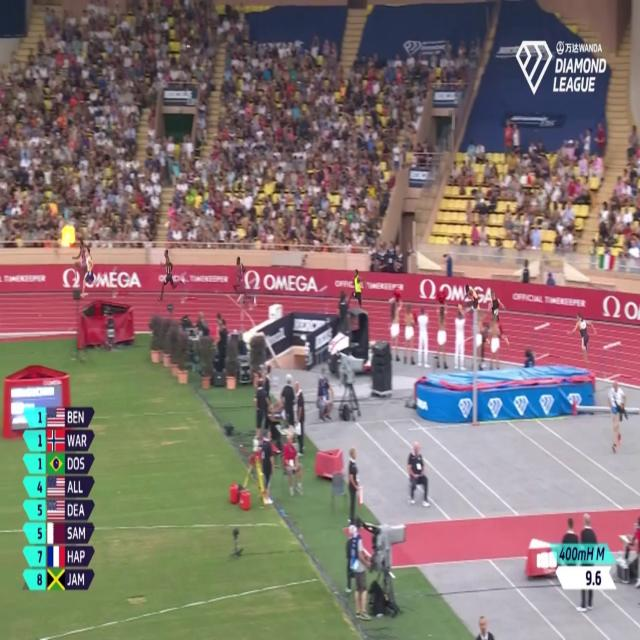athlete: (572, 306, 596, 370), (234, 251, 259, 310), (160, 245, 180, 310), (490, 288, 511, 348), (347, 260, 365, 318), (454, 281, 478, 320), (76, 241, 92, 289), (85, 243, 98, 299)
hurdle: (599, 332, 628, 386), (531, 315, 554, 365), (313, 279, 335, 326), (179, 270, 198, 310)
